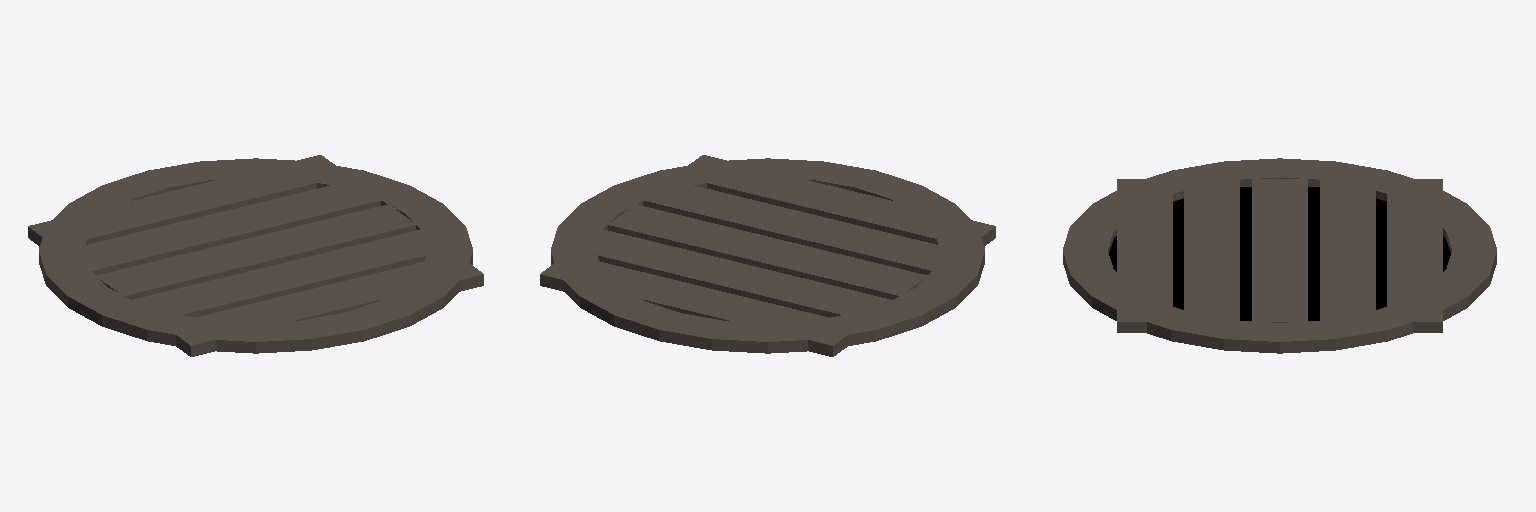
Rendered from Manhole.obj.
The picture shows the model from 3 angles: view 1: azimuth 30°, elevation 25°; view 2: azimuth 150°, elevation 25°; view 3: azimuth 270°, elevation 25°; orthographic projection.
Bounding box in the file's own units: 1.03 × 0.03 × 1.03.